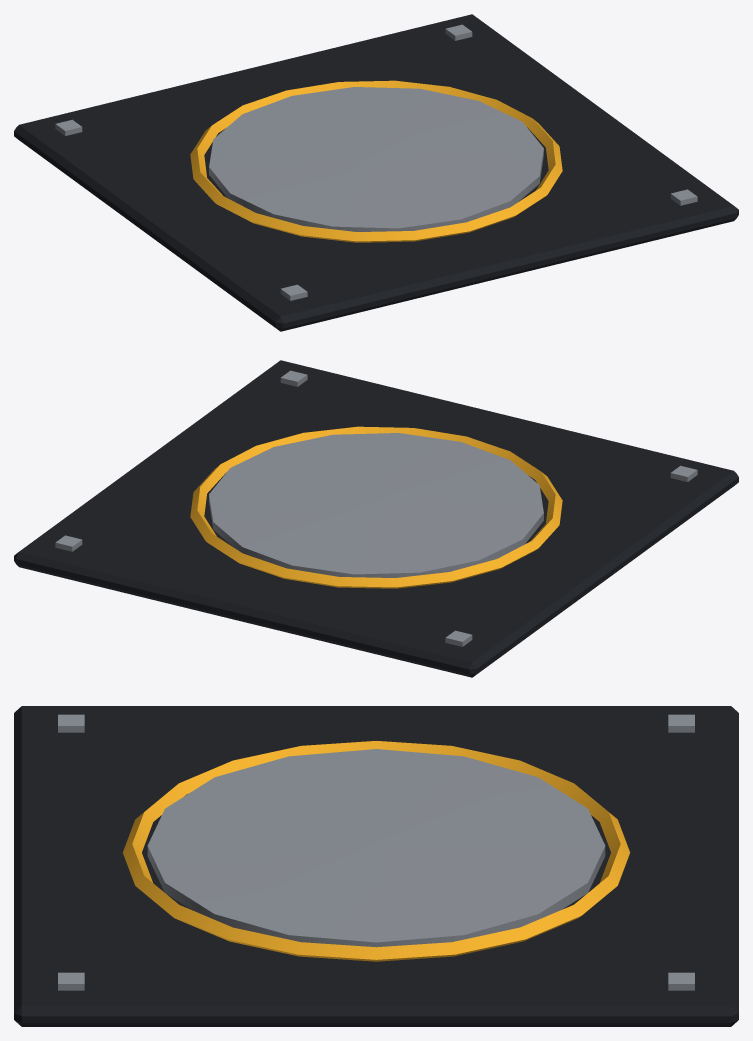
The model's file is floor.glb.
The picture shows the model from 3 angles, top to bottom: view 1: azimuth 30°, elevation 25°; view 2: azimuth 150°, elevation 25°; view 3: azimuth 270°, elevation 25°; orthographic projection. The views are drawn at different scales.
Parts seen in each view (by area): view 1: floor_mesh; view 2: floor_mesh; view 3: floor_mesh.
Boxes of the visible parts, x1,y1,x2,y2 form: floor_mesh: [14, 14, 738, 331]; floor_mesh: [14, 360, 738, 677]; floor_mesh: [14, 706, 738, 1026].
Size of the model in its own units: 3.8 by 0.2 by 3.8.
